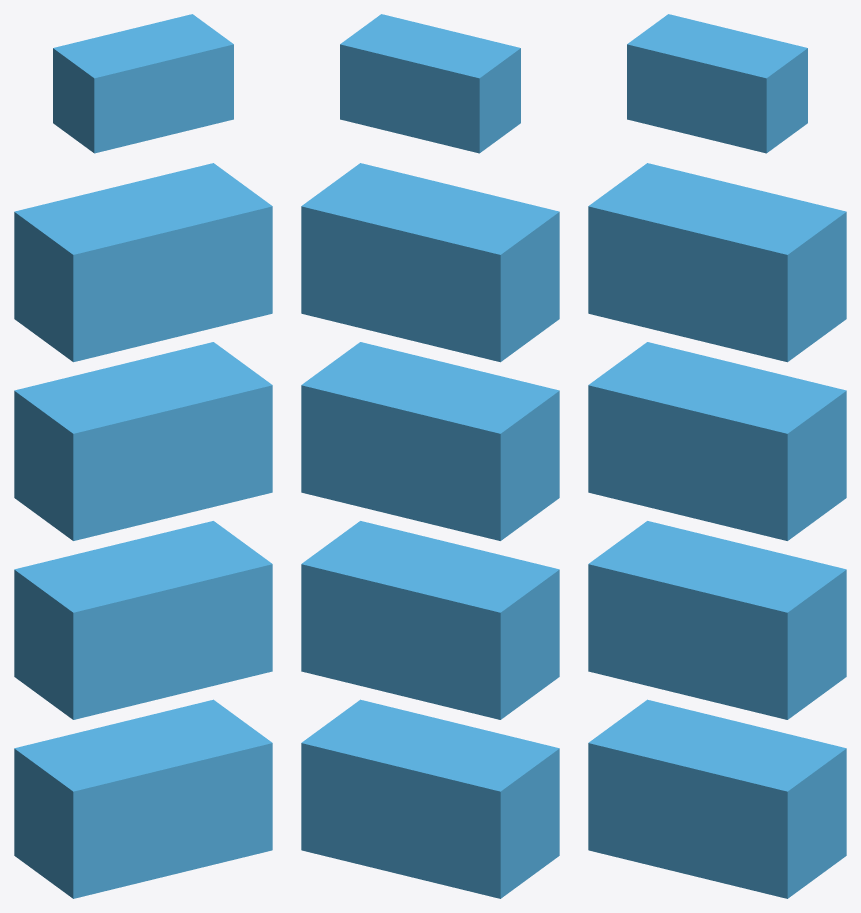
File: scene3d-fixture.glb
The picture shows the model from 3 angles, left to right: view 1: azimuth 30°, elevation 25°; view 2: azimuth 150°, elevation 25°; view 3: azimuth 330°, elevation 25°; orthographic projection.
Visible parts, largest first — view 1: Shoulder, Wrist, Base, Elbow, Tool; view 2: Shoulder, Wrist, Base, Elbow, Tool; view 3: Shoulder, Wrist, Base, Elbow, Tool.
Part boxes in pixels (x1,y1,x2,y2): Shoulder: (14, 521, 272, 719); Wrist: (14, 163, 272, 362); Base: (14, 699, 272, 898); Elbow: (14, 342, 272, 540); Tool: (53, 14, 233, 153); Shoulder: (301, 521, 559, 719); Wrist: (301, 163, 559, 362); Base: (301, 699, 559, 898); Elbow: (301, 342, 559, 540); Tool: (340, 14, 520, 153); Shoulder: (588, 521, 846, 719); Wrist: (588, 163, 846, 362); Base: (588, 699, 846, 898); Elbow: (588, 342, 846, 540); Tool: (627, 14, 807, 153).
Bounding box in the file's own units: 0.7 × 2.71 × 0.36.
